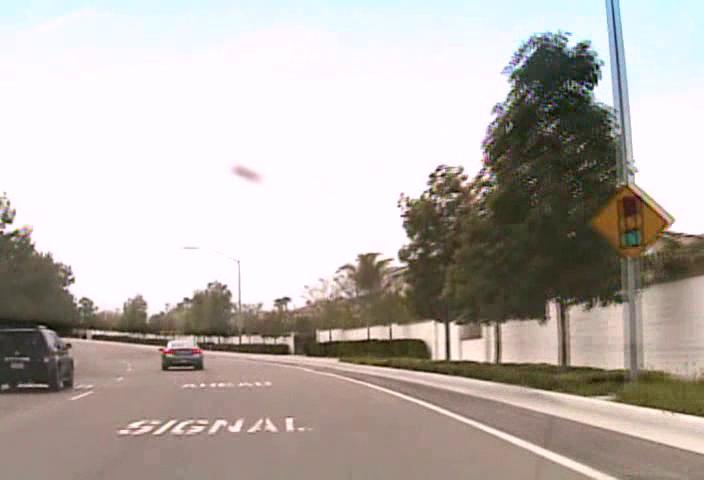signalAhead: (588, 183, 668, 260)
